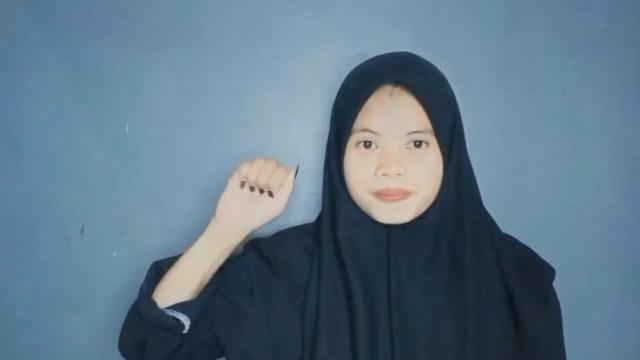A: (215, 157, 302, 235)
